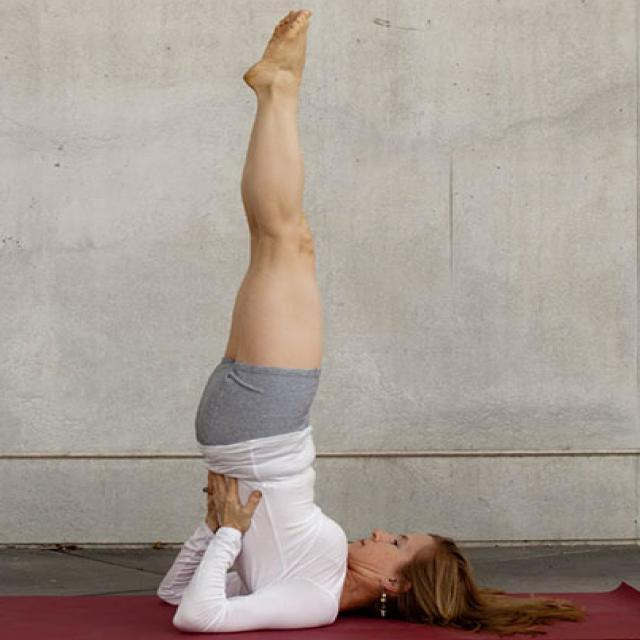yoga-pose shoulderstand: (158, 5, 470, 638)
